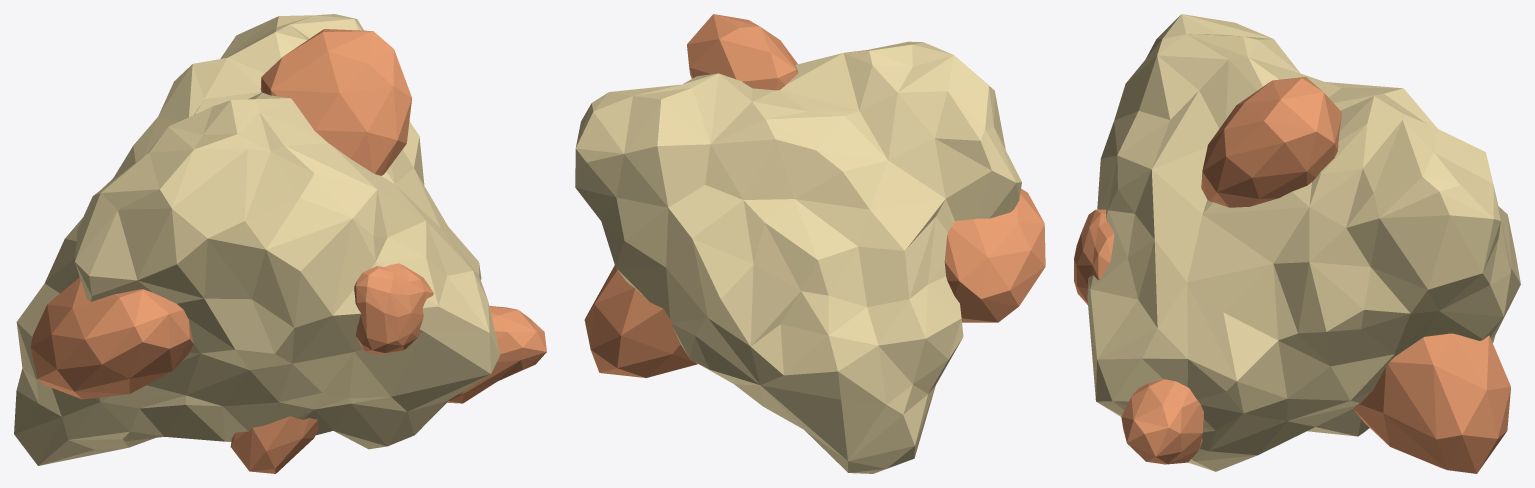
Rendered from StoneOre (51).fbx.
3 renders of one model, left to right at view 1: azimuth 30°, elevation 25°; view 2: azimuth 150°, elevation 25°; view 3: azimuth 270°, elevation 25°, orthographic. The views are drawn at different scales.
Parts seen in each view (by area): view 1: Asteroid338; view 2: Asteroid338; view 3: Asteroid338.
Part boxes in pixels (x1,y1,x2,y2): Asteroid338: (14,14,546,473); Asteroid338: (575,14,1045,473); Asteroid338: (1074,14,1520,473).
Size of the model in its own units: 484 by 425 by 402.
